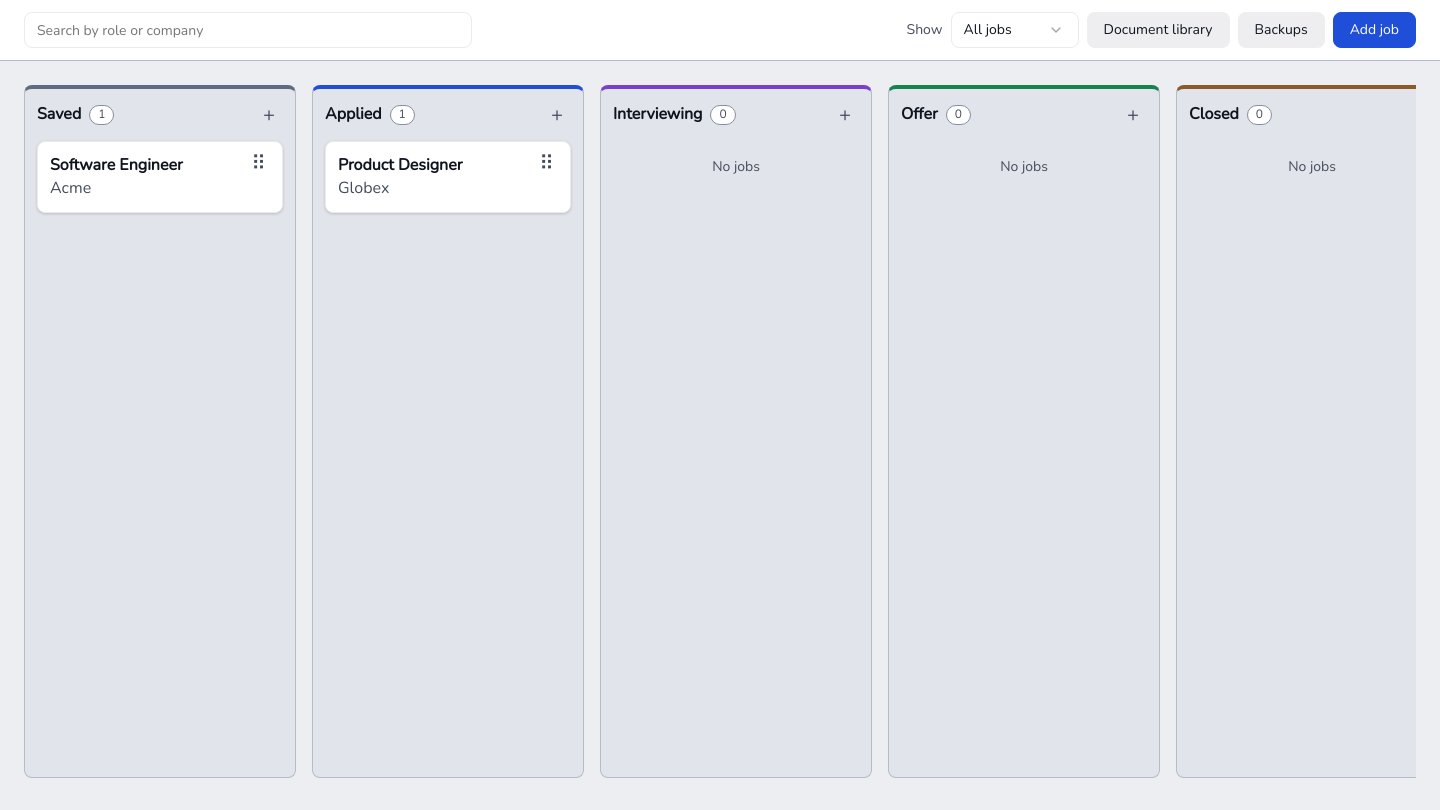
App › search › shows every job again when the search is cleared
The image size is (1440, 810).
@and [features/board-search.feature] I have searched the board for "Acme"
Type "Acme" into the search field named "Search jobs".
click(248, 30); type("Acme")  # box [24,12,472,48]
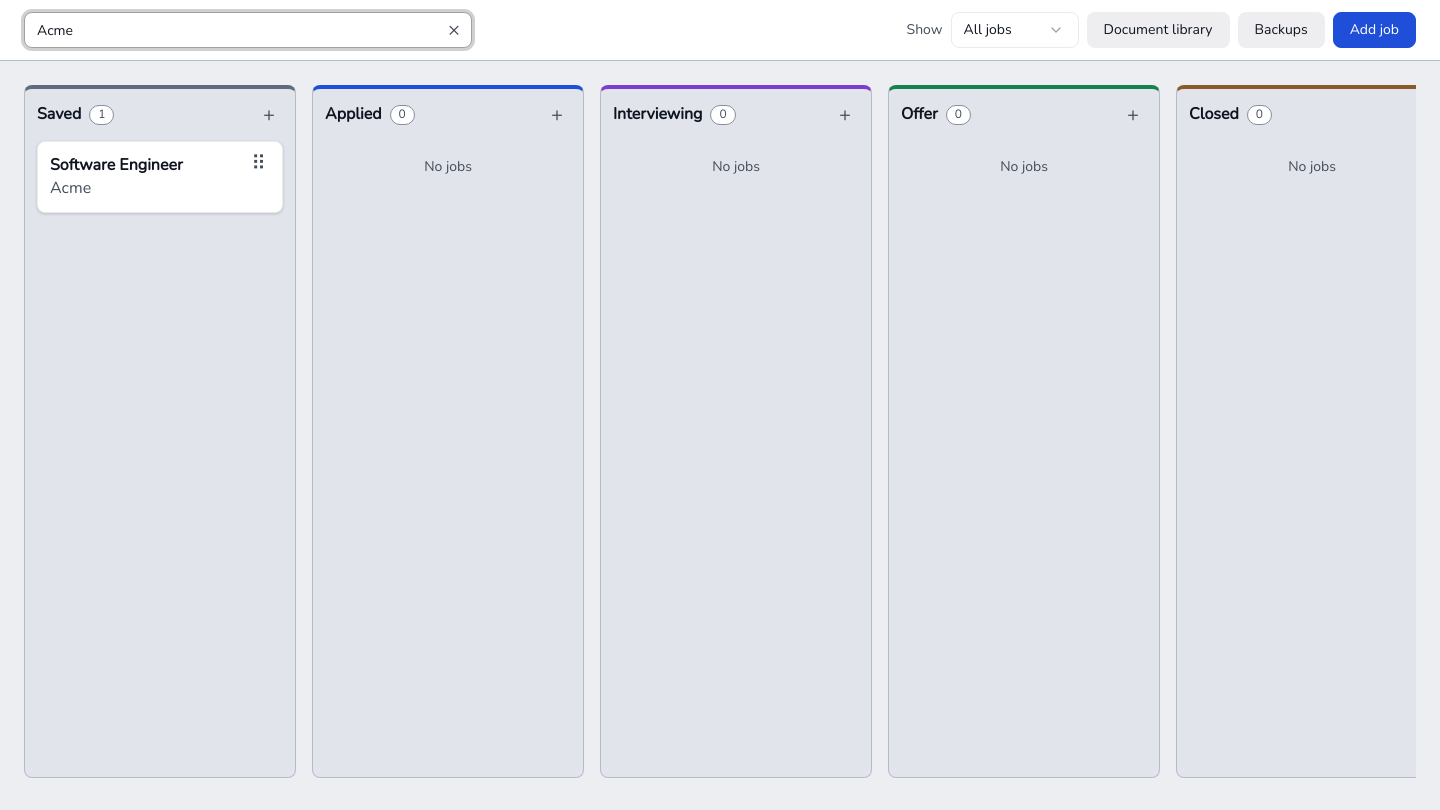
@when [features/board-search.feature] I clear the search
Click the button named "Clear search".
click(454, 30)  # box [440,16,468,44]
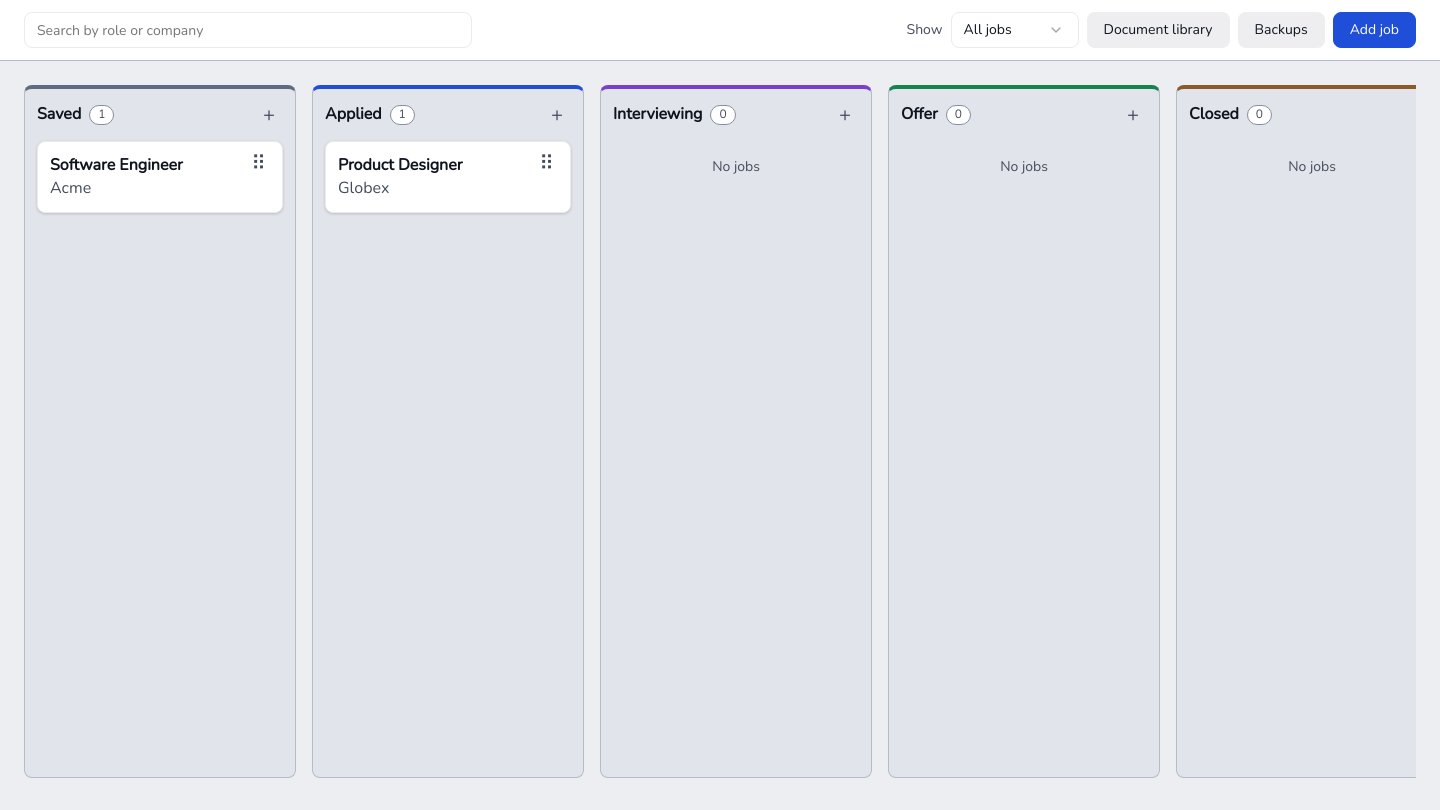
Expected: the element named "Software Engineer at Acme" is shown, [37,141,283,213]
Expected: the search field named "Search jobs" is empty, [24,12,472,48]
Expected: the element named "Product Designer at Globex" is shown, [325,141,571,213]
